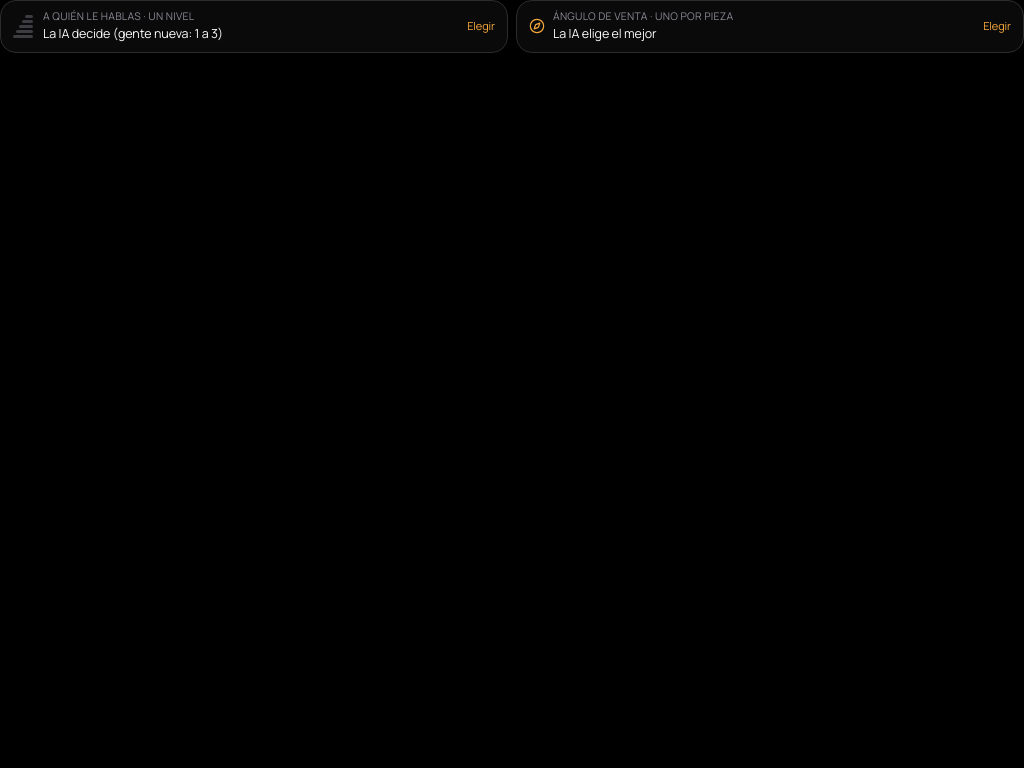
PieceStrategy (nivel + ángulo) › abre la escalera, muestra los 5 peldaños y elige un nivel
Later steps or results of the test are not shown.
expect the text "La IA decide (gente nueva: 1 a 3)" is shown: met, box [43, 25, 223, 42]
Click the text "A quién le hablas · un nivel" at (119, 16), box [43, 9, 194, 23]
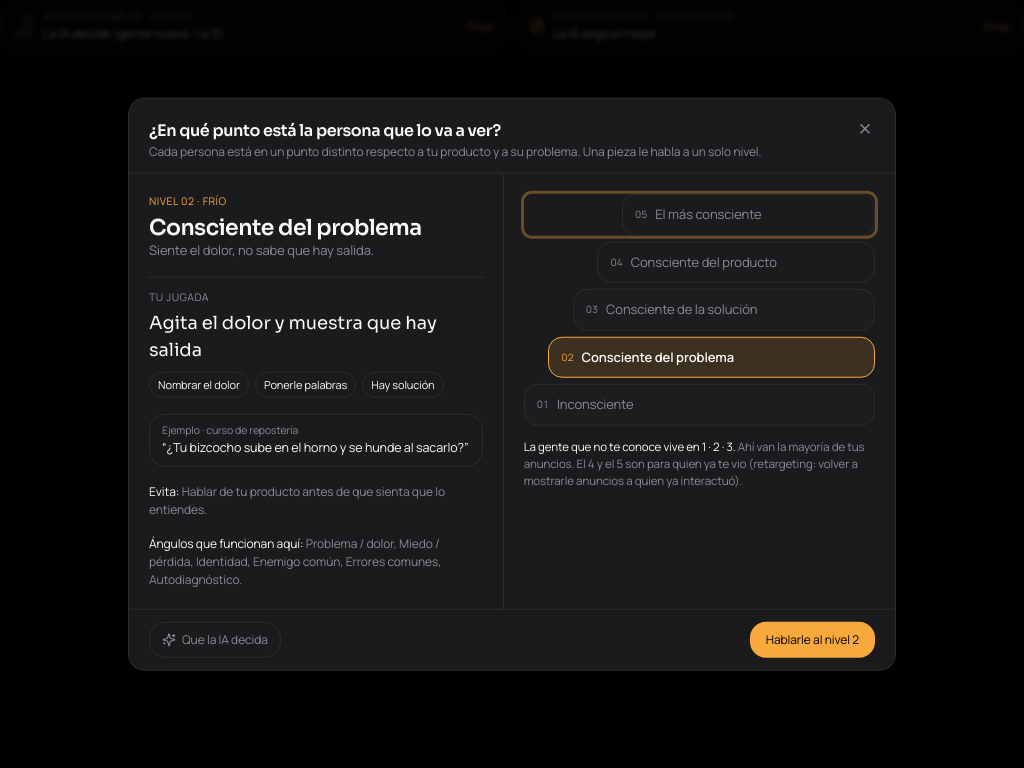
expect the number of radio buttons is 5: met
Click the radio button labelled "03 Consciente de la solución" at (699, 310), box [524, 289, 875, 330]
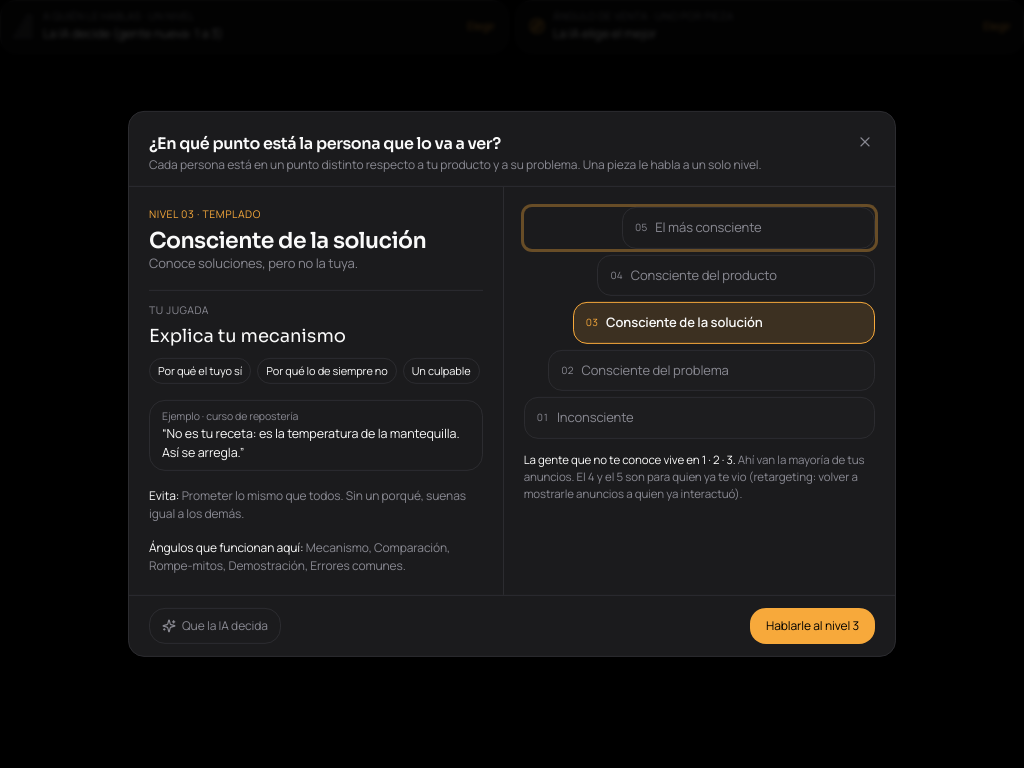
expect the text "Explica tu mecanismo" is shown: met, box [149, 324, 346, 346]
